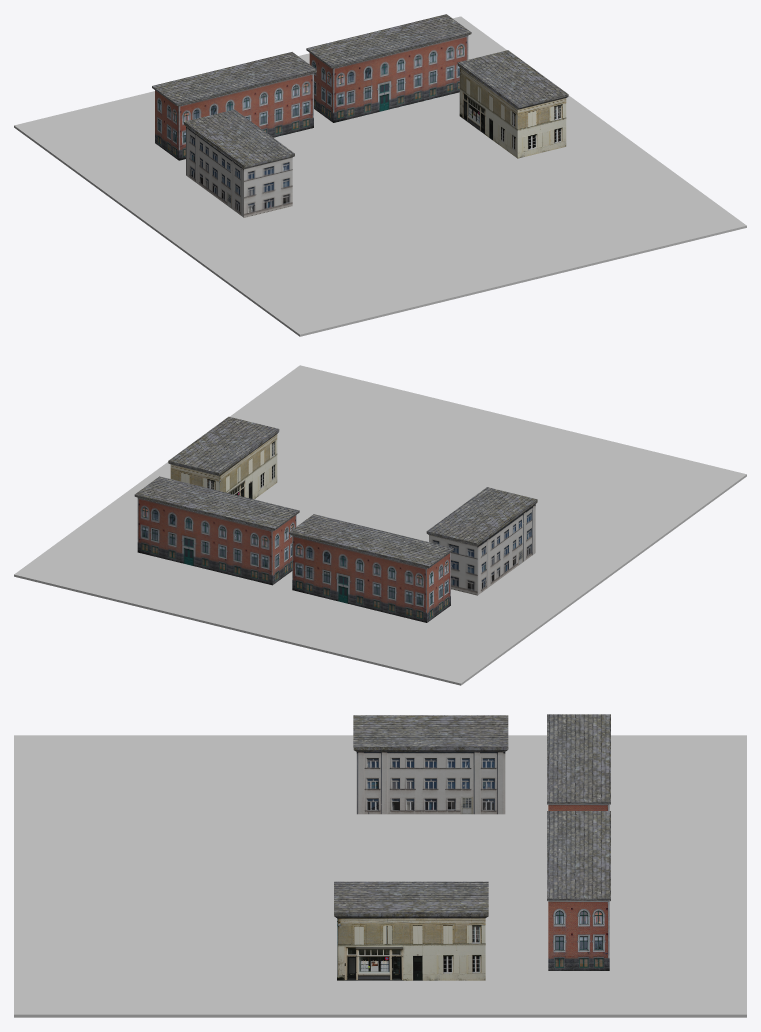
The model's file is Exterior.FBX.
3 renders of one model, top to bottom at view 1: azimuth 30°, elevation 25°; view 2: azimuth 150°, elevation 25°; view 3: azimuth 270°, elevation 25°, orthographic. The views are drawn at different scales.
Parts seen in each view (by area): view 1: Exterior; view 2: Exterior; view 3: Exterior.
Boxes of the visible parts, x1,y1,x2,y2 form: Exterior: [14, 14, 746, 336]; Exterior: [14, 365, 746, 685]; Exterior: [14, 714, 746, 1017].
Size of the model in its own units: 6010 by 767 by 6660.
